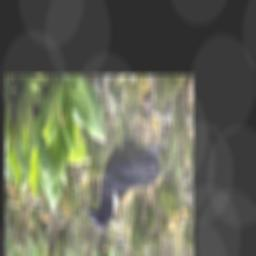Crow: (87, 115, 162, 234)
